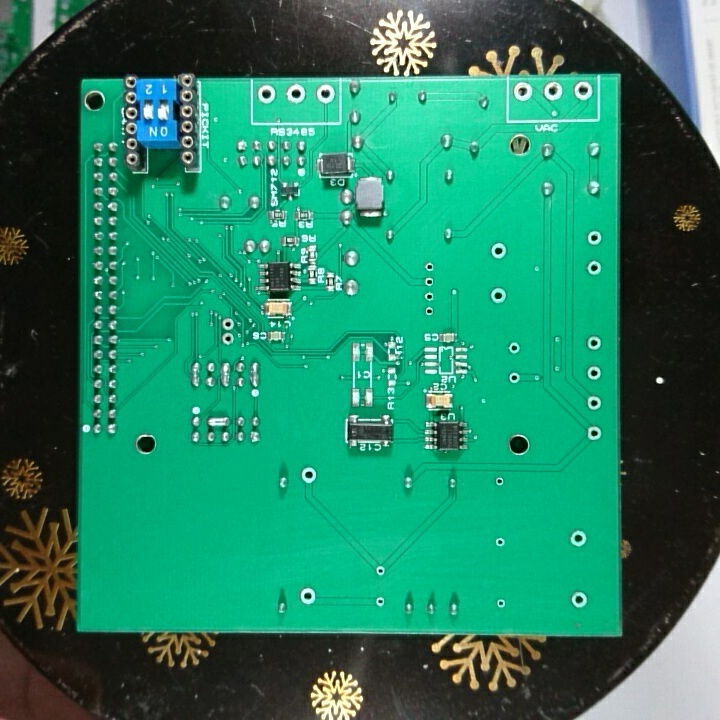F: (511, 79, 537, 103), (572, 79, 596, 103), (314, 81, 337, 106), (540, 80, 565, 102), (568, 589, 591, 612), (283, 83, 307, 105), (486, 285, 510, 307), (256, 83, 278, 106), (488, 239, 510, 262), (299, 463, 319, 488), (297, 584, 319, 606), (568, 526, 588, 549), (585, 361, 604, 383), (585, 423, 605, 443), (585, 392, 603, 414), (585, 258, 604, 278), (586, 228, 604, 248), (219, 314, 238, 332), (505, 339, 523, 358), (422, 286, 440, 305), (219, 330, 238, 347), (492, 595, 511, 612), (492, 532, 509, 551), (585, 335, 602, 353), (492, 472, 508, 491), (420, 303, 437, 320), (506, 370, 522, 388), (421, 258, 439, 274), (373, 594, 388, 612), (422, 273, 438, 289), (372, 563, 387, 579)
P: (218, 360, 233, 390), (204, 413, 231, 429), (189, 358, 202, 390), (248, 358, 261, 389)
